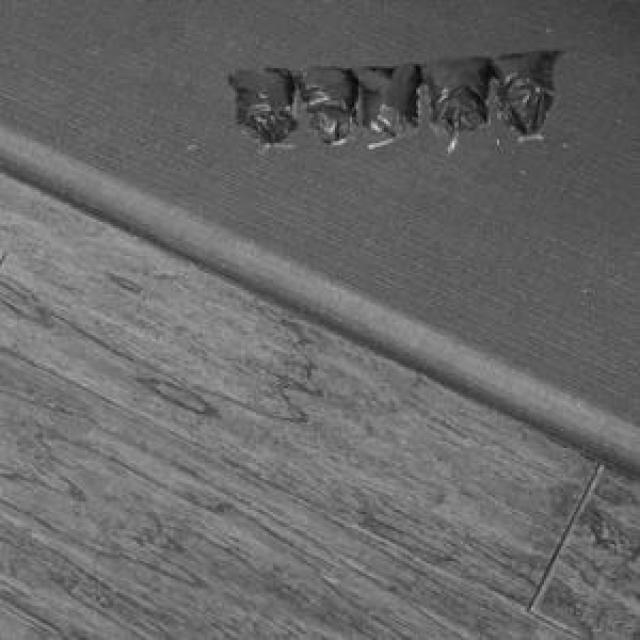miscellaneous trash: (224, 47, 563, 143)
